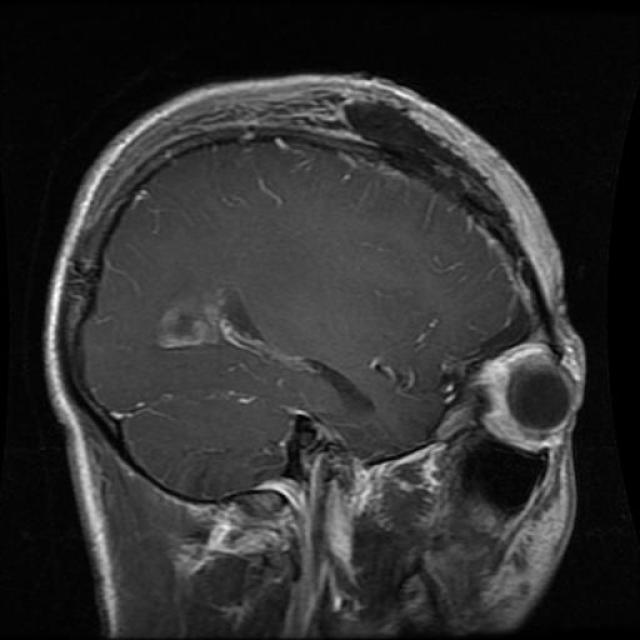glioma: (483, 341, 582, 450)
